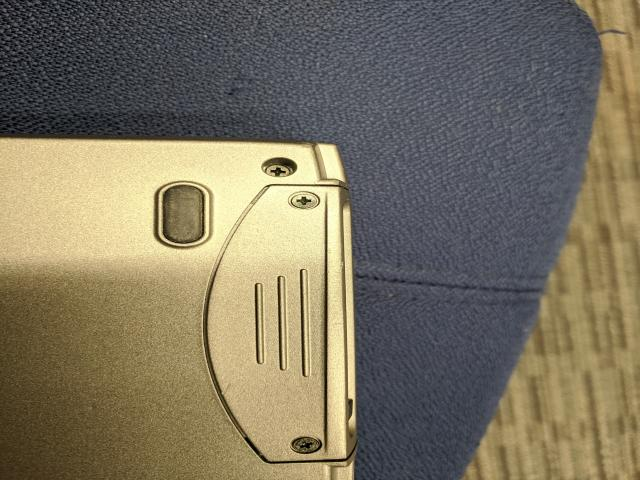CRS: (289, 191, 320, 210), (261, 163, 294, 179), (292, 436, 322, 452)
